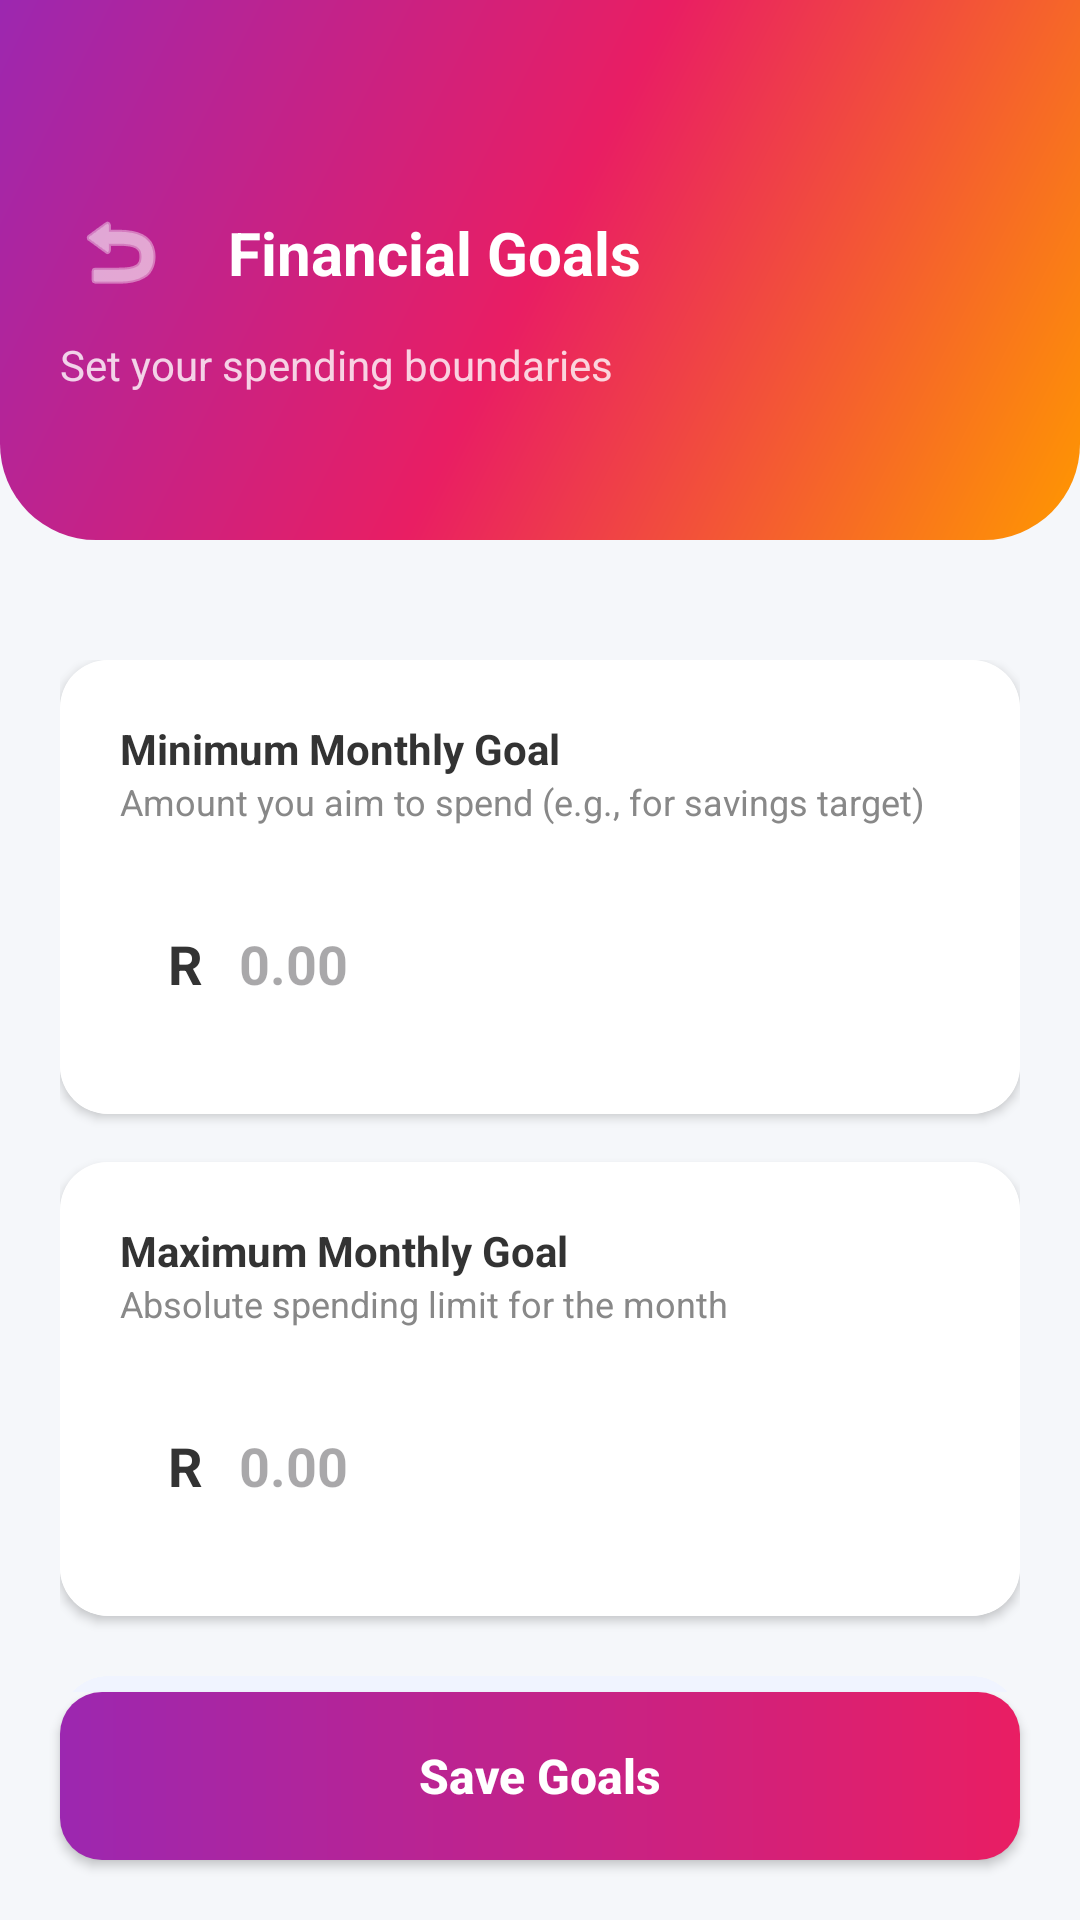

Point at icon controls on the screen. Image size 1080×1920, points as [x,y].
revert: [121,252]
